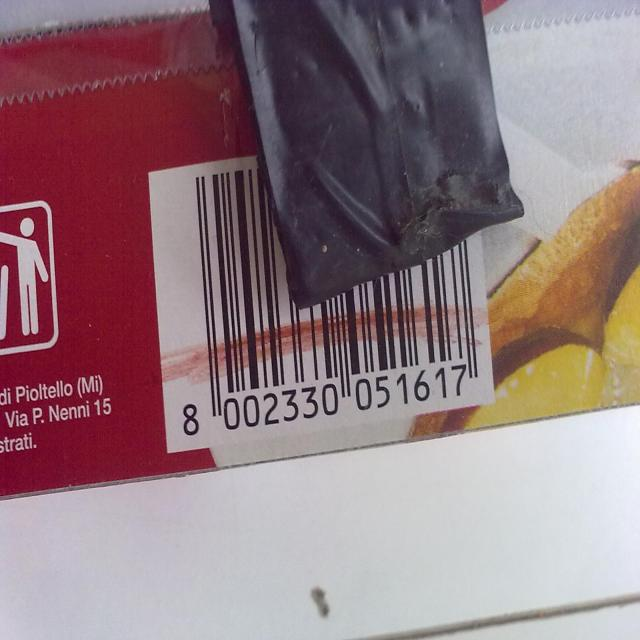barcode: (149, 158, 494, 465)
